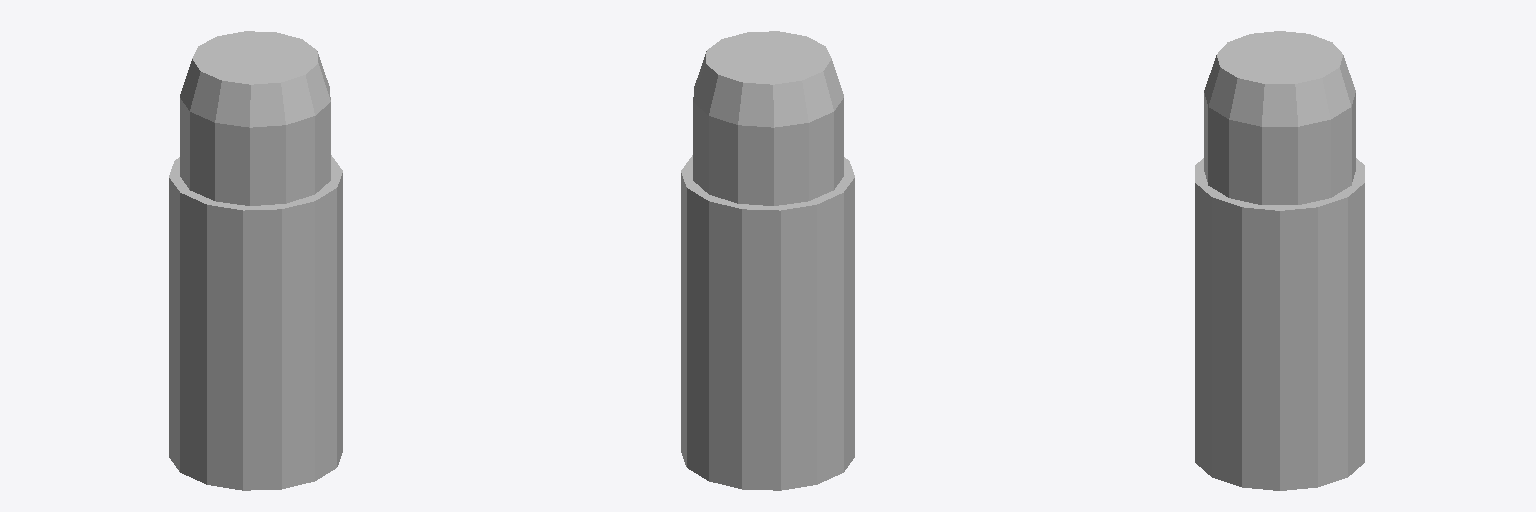
File: Втулка.obj
The picture shows the model from 3 angles: view 1: azimuth 30°, elevation 25°; view 2: azimuth 150°, elevation 25°; view 3: azimuth 270°, elevation 25°; orthographic projection.
Visible parts, largest first — view 1: Втулка; view 2: Втулка; view 3: Втулка.
Part boxes in pixels (bbox=[...]): Втулка: bbox=[169, 31, 342, 490]; Втулка: bbox=[681, 31, 854, 490]; Втулка: bbox=[1195, 31, 1364, 490].
Bounding box in the file's own units: 8 × 20 × 7.8.